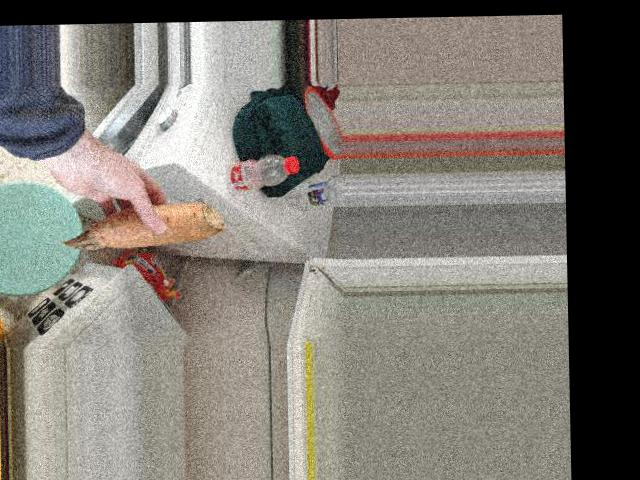sweet_potato: (73, 196, 232, 243)
